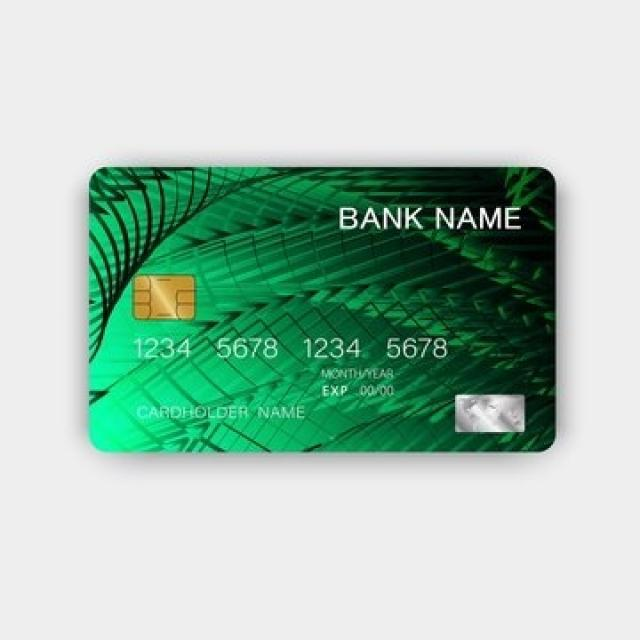payment_card: (86, 164, 557, 454)
